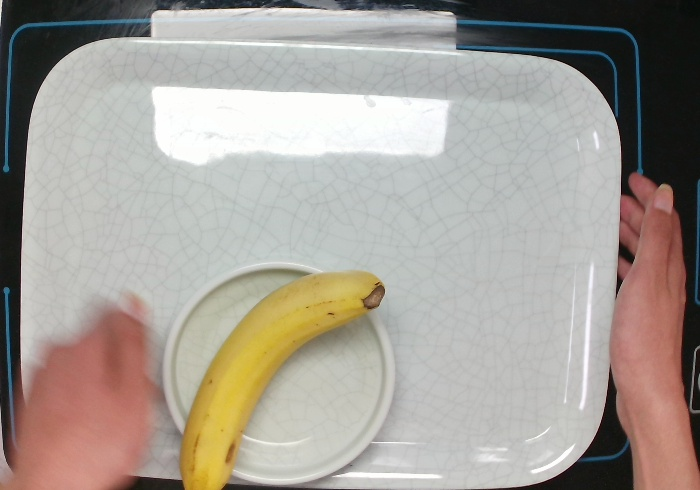JYsf-Xiao_Yuan_Pan: (158, 256, 402, 488)
